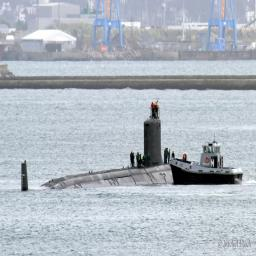submarine: (21, 119, 180, 196)
